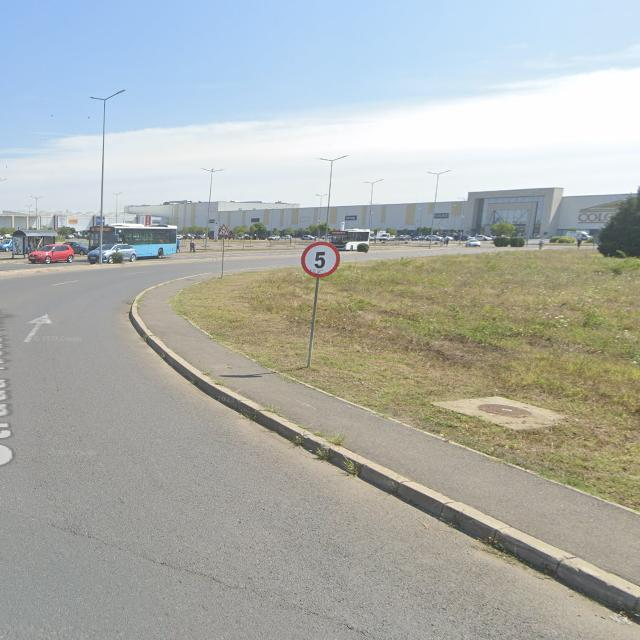forb_speed_over_5: (301, 242, 340, 278)
